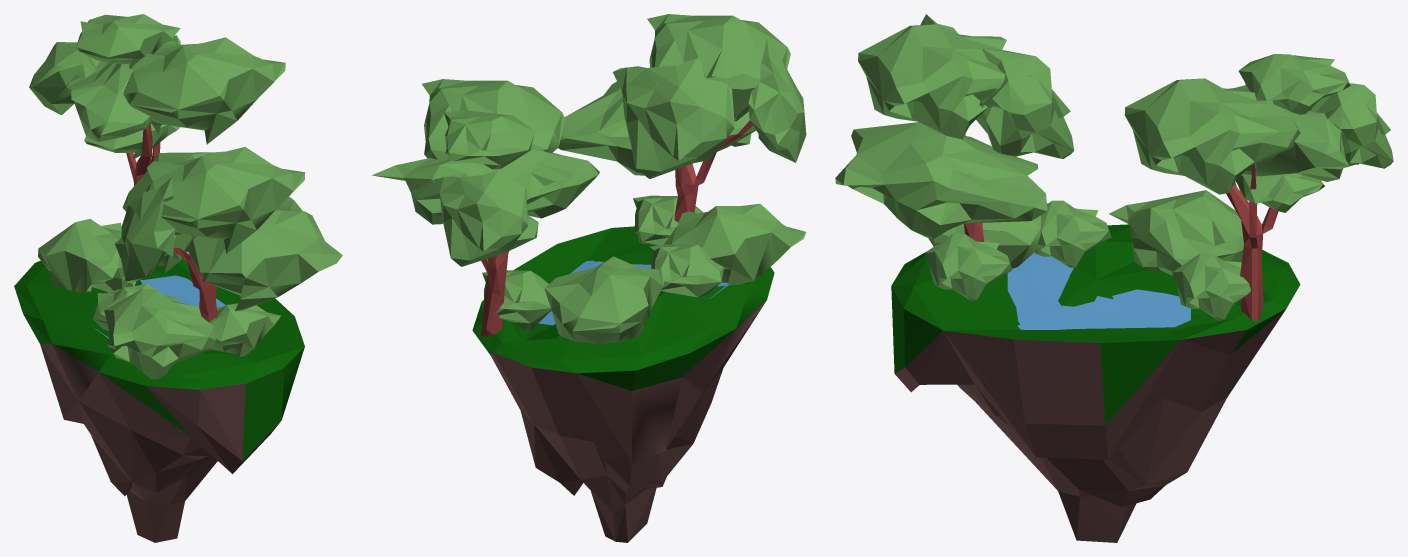
File: floating_island_medium.obj
3 views of the same model, side by side, from view 1: azimuth 30°, elevation 25°; view 2: azimuth 150°, elevation 25°; view 3: azimuth 270°, elevation 25° (orthographic). The views are drawn at different scales.
Visible parts, largest first — view 1: pCube13.001; view 2: pCube13.001; view 3: pCube13.001.
Part boxes in pixels (x1,y1,x2,y2): pCube13.001: (14,14,342,542); pCube13.001: (372,14,806,542); pCube13.001: (835,14,1393,542).
Bounding box in the file's own units: 0.1226 × 0.1934 × 0.1927.
